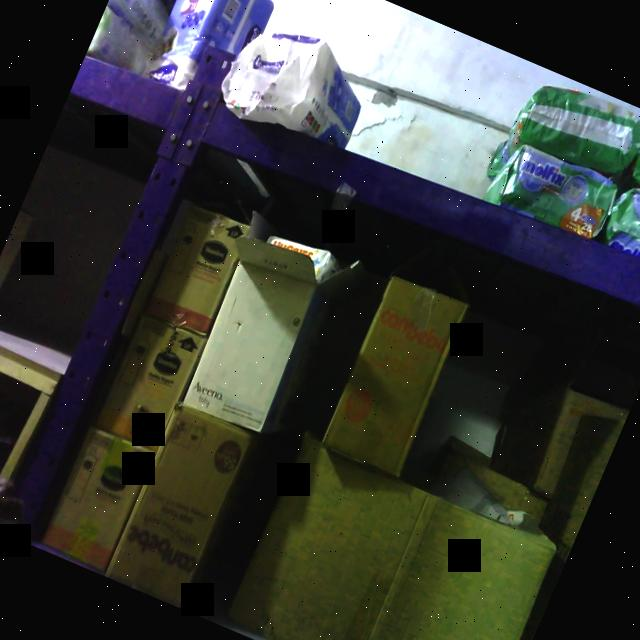box: (222, 433, 563, 640), (318, 269, 472, 480), (105, 402, 255, 608), (37, 422, 158, 576), (137, 199, 253, 342), (92, 310, 208, 452)
